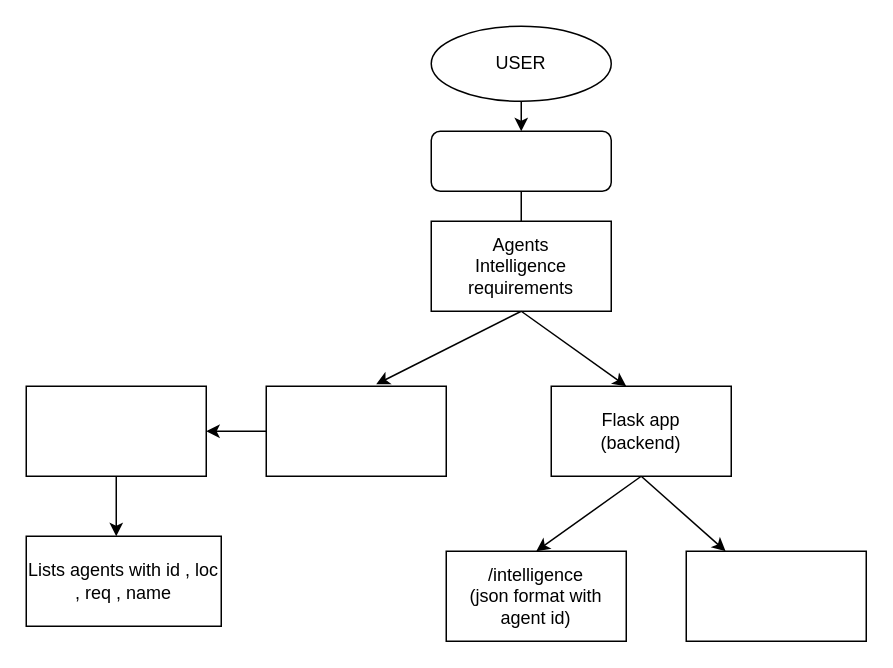
Some shapes in this 893 by 668 pixel diagram are drawn without their labels. Here are the shapes that lost their labels. From the top down, the box of each, then its label:
(430, 130, 611, 191): acces from localhost:8000
(25, 385, 206, 476): Agent.py (Register agents)
(265, 385, 446, 476): Consul (service discovery)
